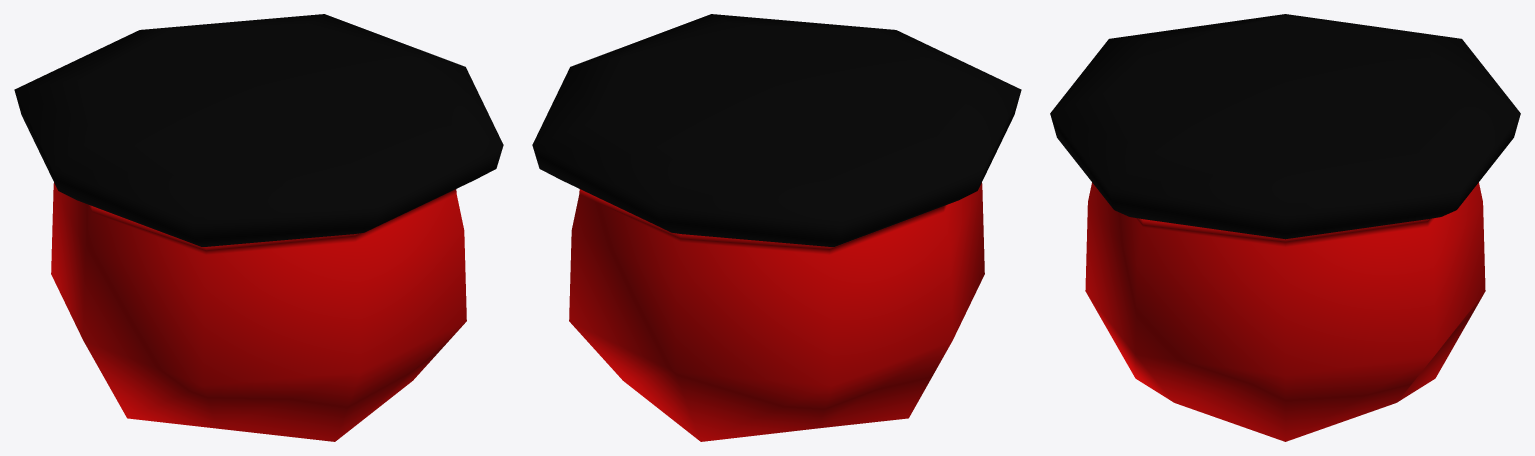
File: emergencyLight.fbx
3 renders of one model, left to right at view 1: azimuth 30°, elevation 25°; view 2: azimuth 150°, elevation 25°; view 3: azimuth 270°, elevation 25°, orthographic.
Visible parts, largest first — view 1: emergencyLight; view 2: emergencyLight; view 3: emergencyLight.
Part boxes in pixels (x1,y1,x2,y2): emergencyLight: (14,14,503,441); emergencyLight: (532,14,1021,441); emergencyLight: (1050,14,1520,441).
Bounding box in the file's own units: 1.18 × 0.8931 × 1.18.
